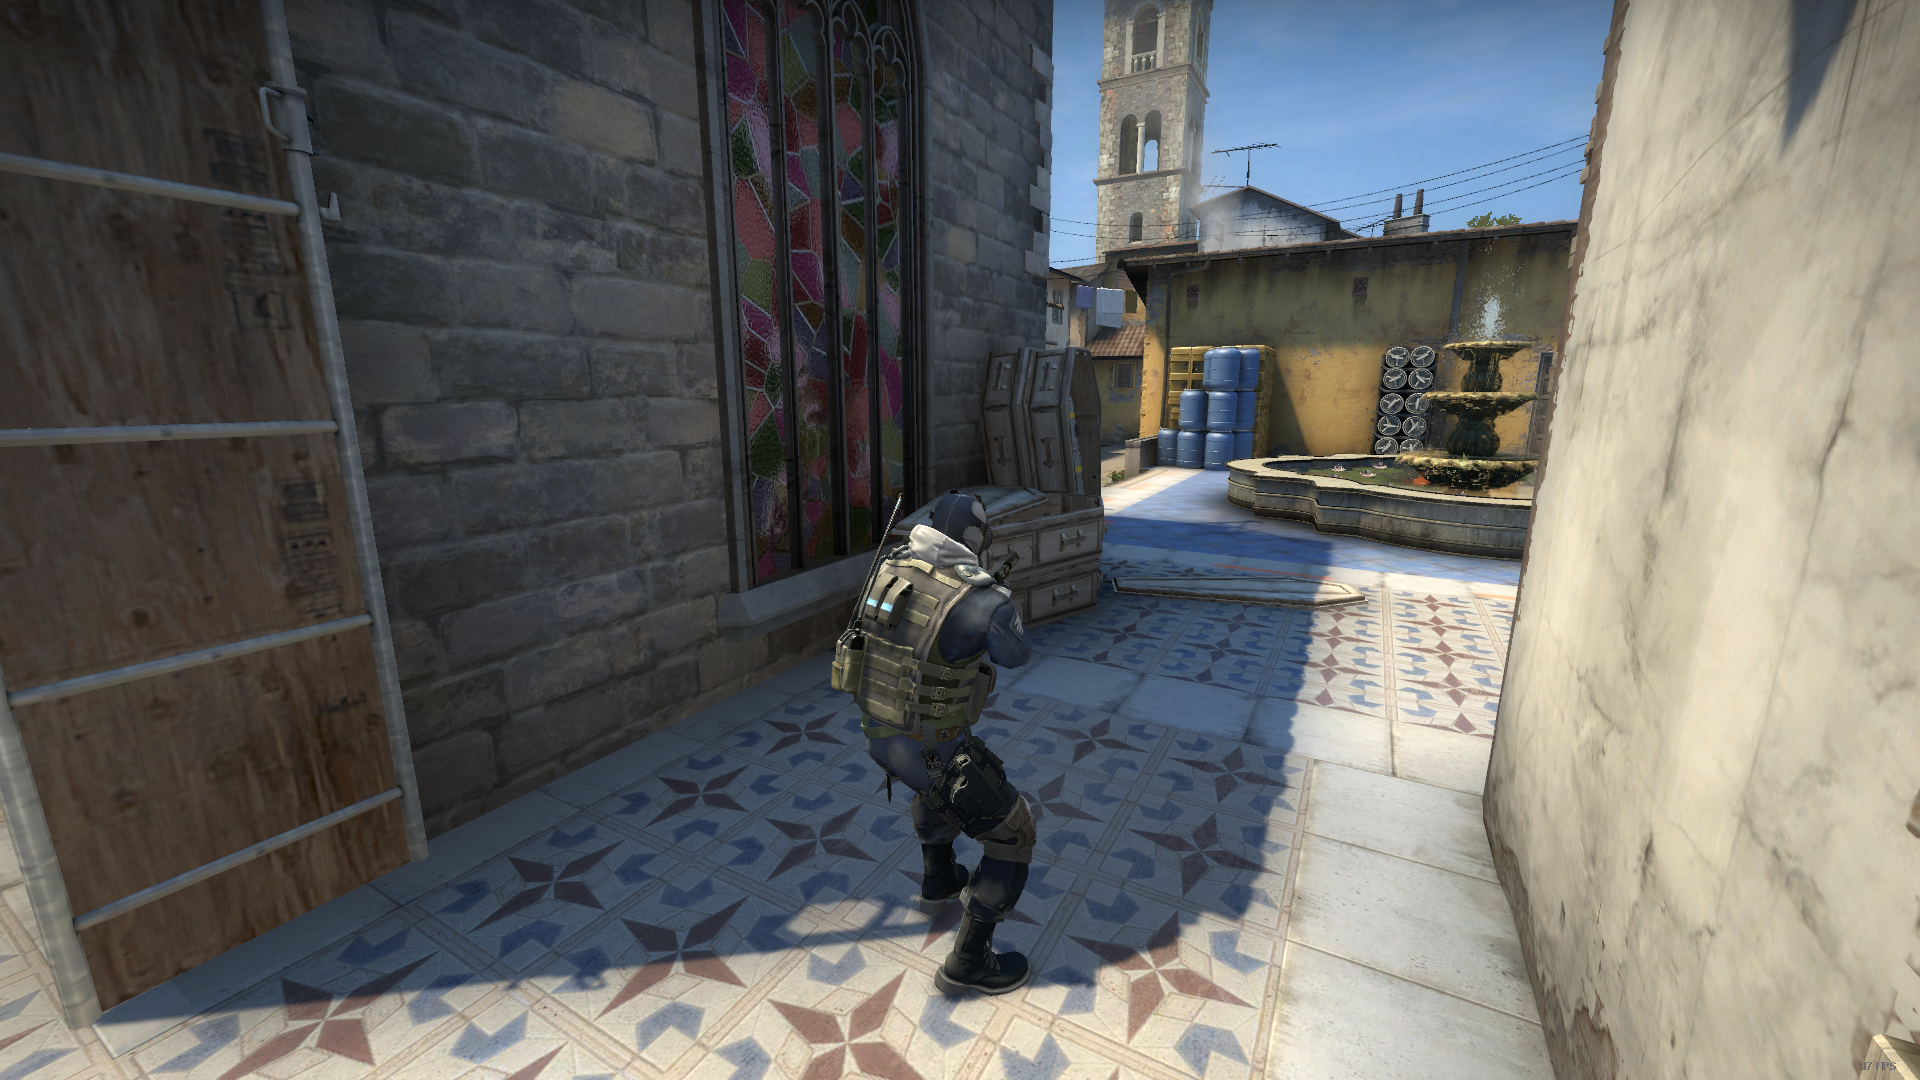ct: (814, 487, 1077, 1000)
